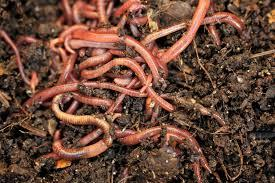Insects: (71, 28, 161, 94), (79, 55, 177, 113), (114, 123, 217, 178), (21, 79, 147, 115), (140, 11, 247, 46), (160, 0, 210, 64), (51, 91, 114, 140), (50, 128, 114, 169), (159, 90, 228, 128), (91, 0, 119, 33), (55, 51, 78, 88), (204, 20, 225, 51), (112, 0, 144, 20)
